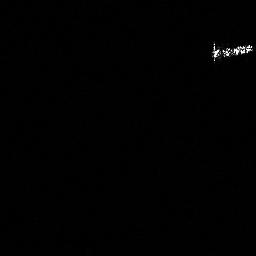ship: (210, 41, 254, 65)
